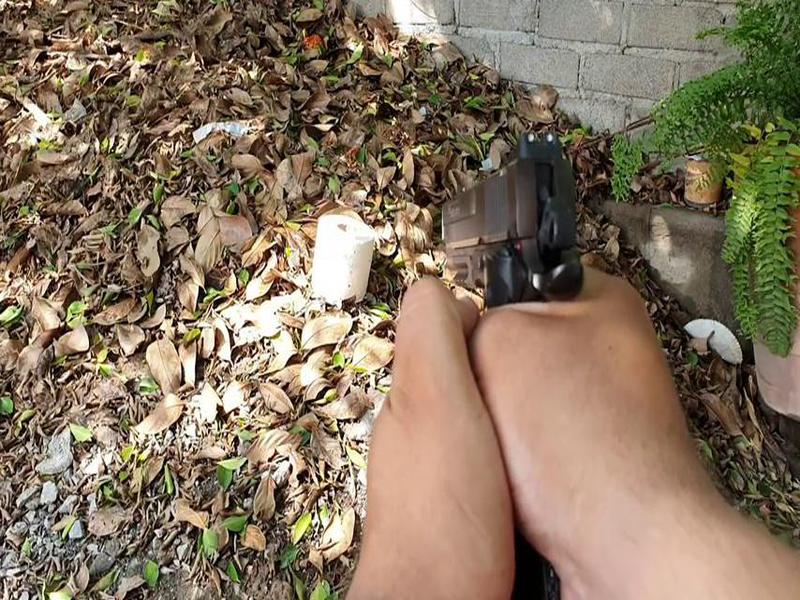Pistola: (390, 97, 651, 403)
